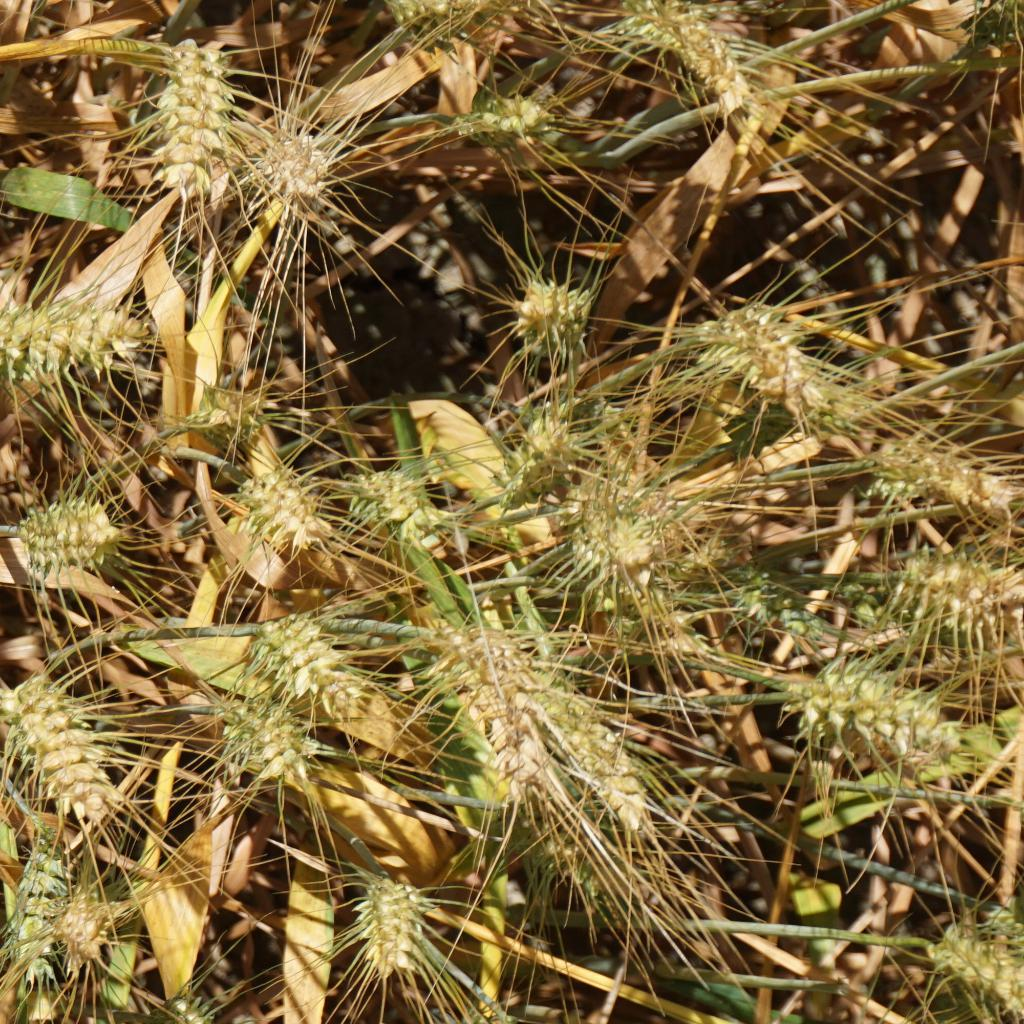0-0: (0, 655, 122, 828), (0, 294, 150, 407), (530, 677, 647, 818), (691, 299, 826, 418), (141, 43, 235, 209), (638, 3, 761, 117), (344, 851, 429, 1011), (271, 612, 378, 734), (438, 629, 530, 768), (866, 432, 1007, 517), (235, 459, 344, 557), (480, 271, 604, 354), (2, 499, 135, 574), (499, 399, 578, 519), (884, 551, 1001, 630), (211, 687, 310, 768), (790, 655, 905, 724), (442, 86, 557, 154), (9, 824, 60, 969), (564, 493, 658, 567), (926, 919, 1016, 995), (605, 572, 691, 642), (251, 126, 331, 201), (348, 469, 432, 540), (867, 687, 953, 750), (729, 579, 822, 635), (950, 0, 1024, 68), (56, 891, 124, 961), (192, 386, 269, 440), (391, 0, 487, 42), (145, 991, 235, 1024), (665, 529, 727, 570), (437, 1010, 488, 1024)
